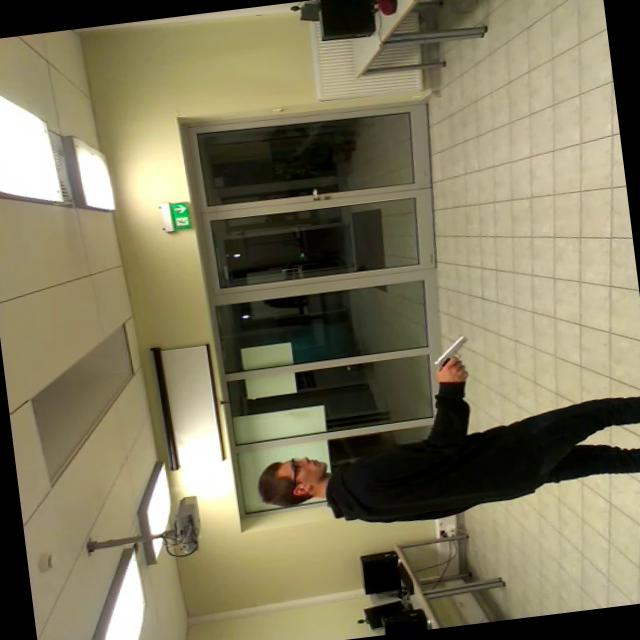handgun: (414, 332, 480, 378)
